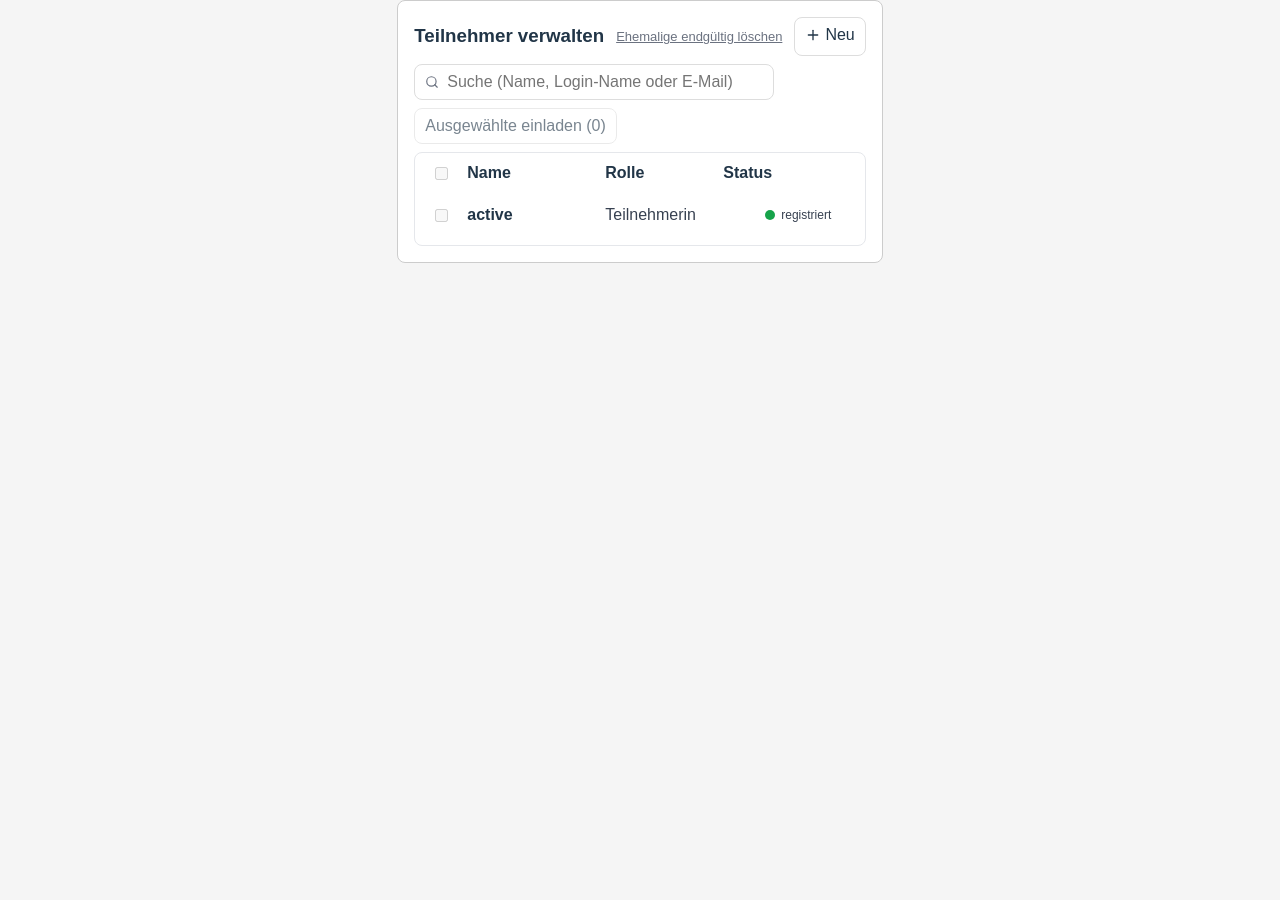
AdminPanel › löscht ehemalige Mitglieder endgültig über den Purge-Dialog (#271)
Expected: the text "active" is shown, [467,206,513,223]
Click the button "Ehemalige endgültig löschen".
click(699, 36)  # box [616,29,782,44]
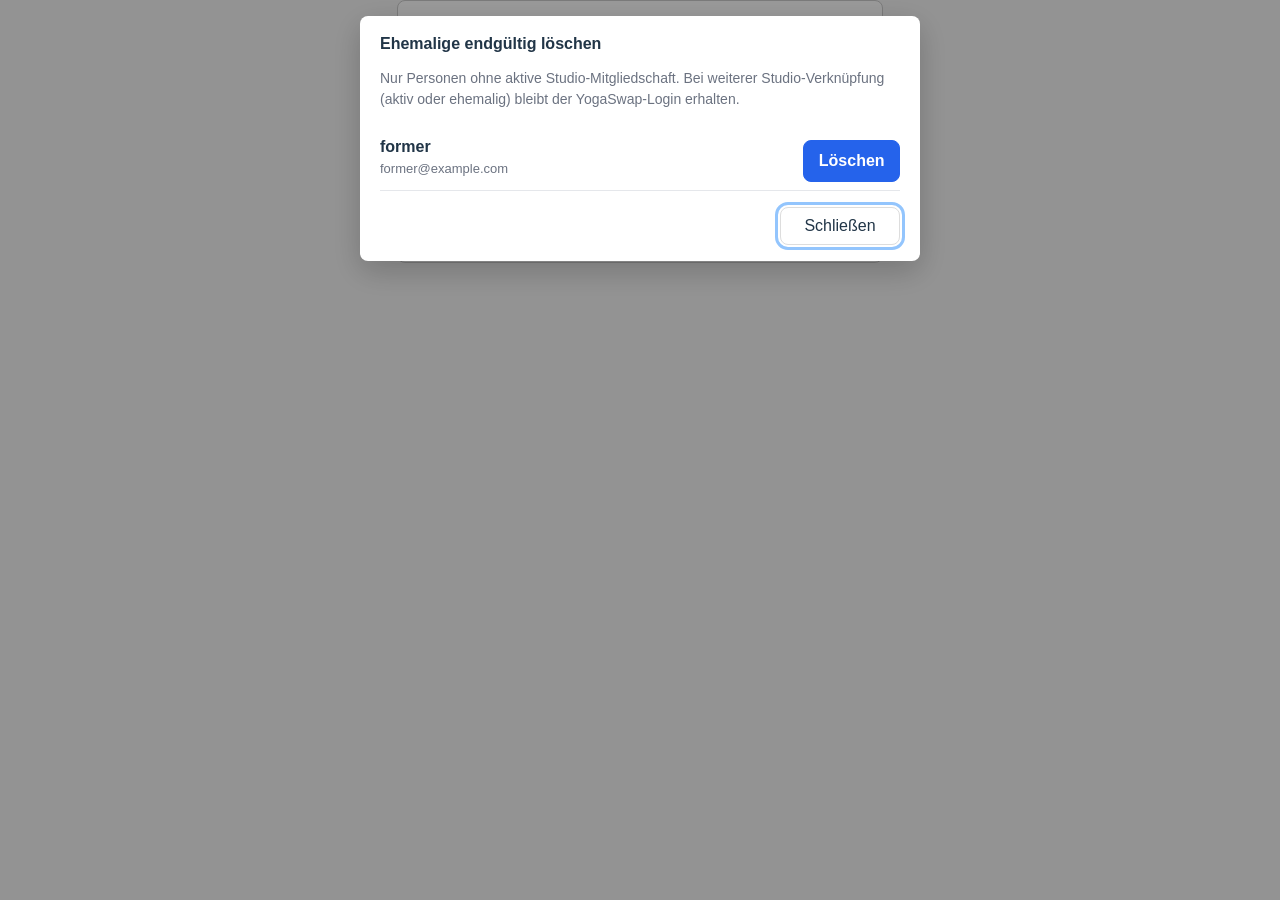
Now the text "former" is shown, box [380,138,431,155]
Click the button with aria-label "Endgültig löschen former".
click(852, 161)  # box [803,140,900,182]
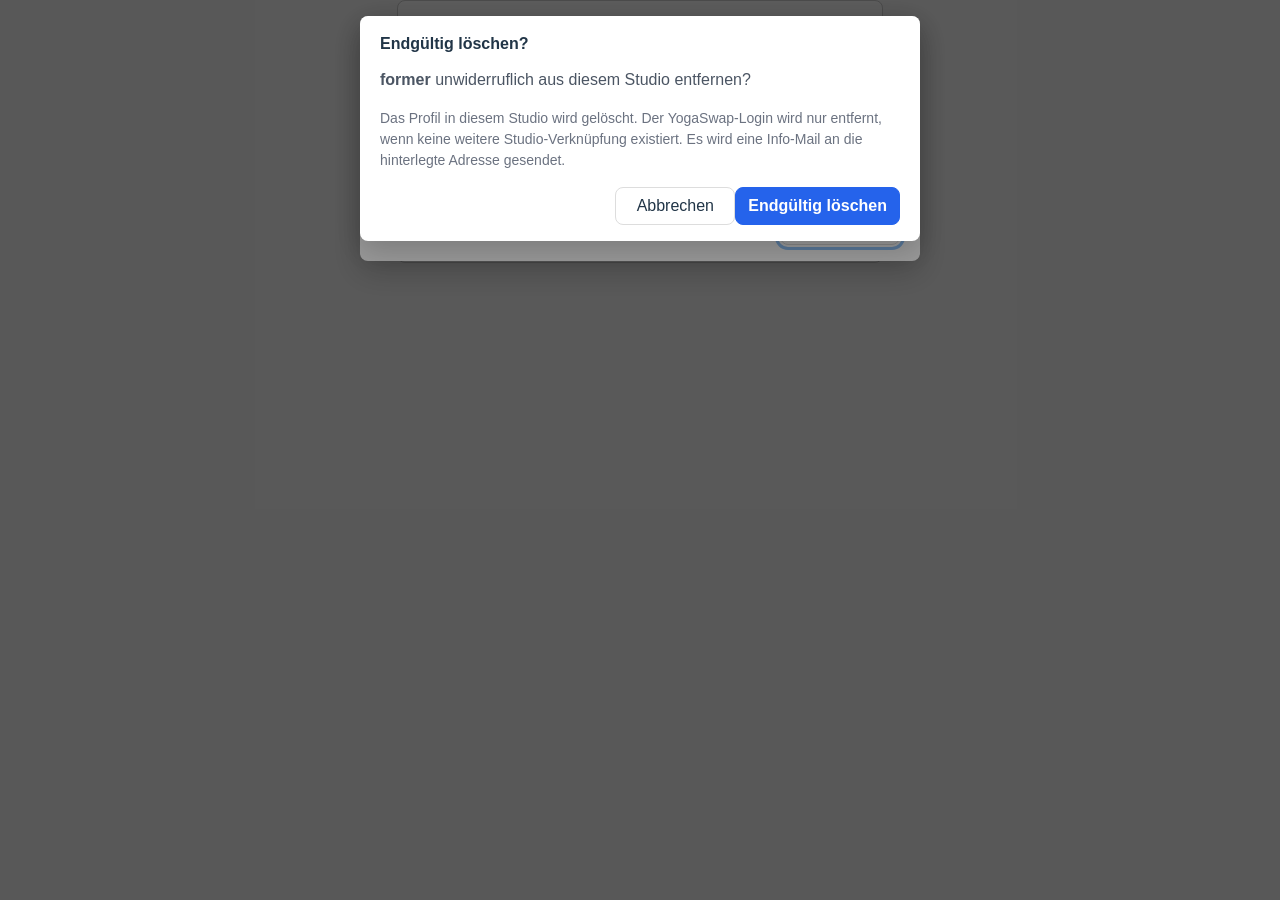
Click the button "Endgültig löschen".
click(818, 206)  # box [735,187,900,225]
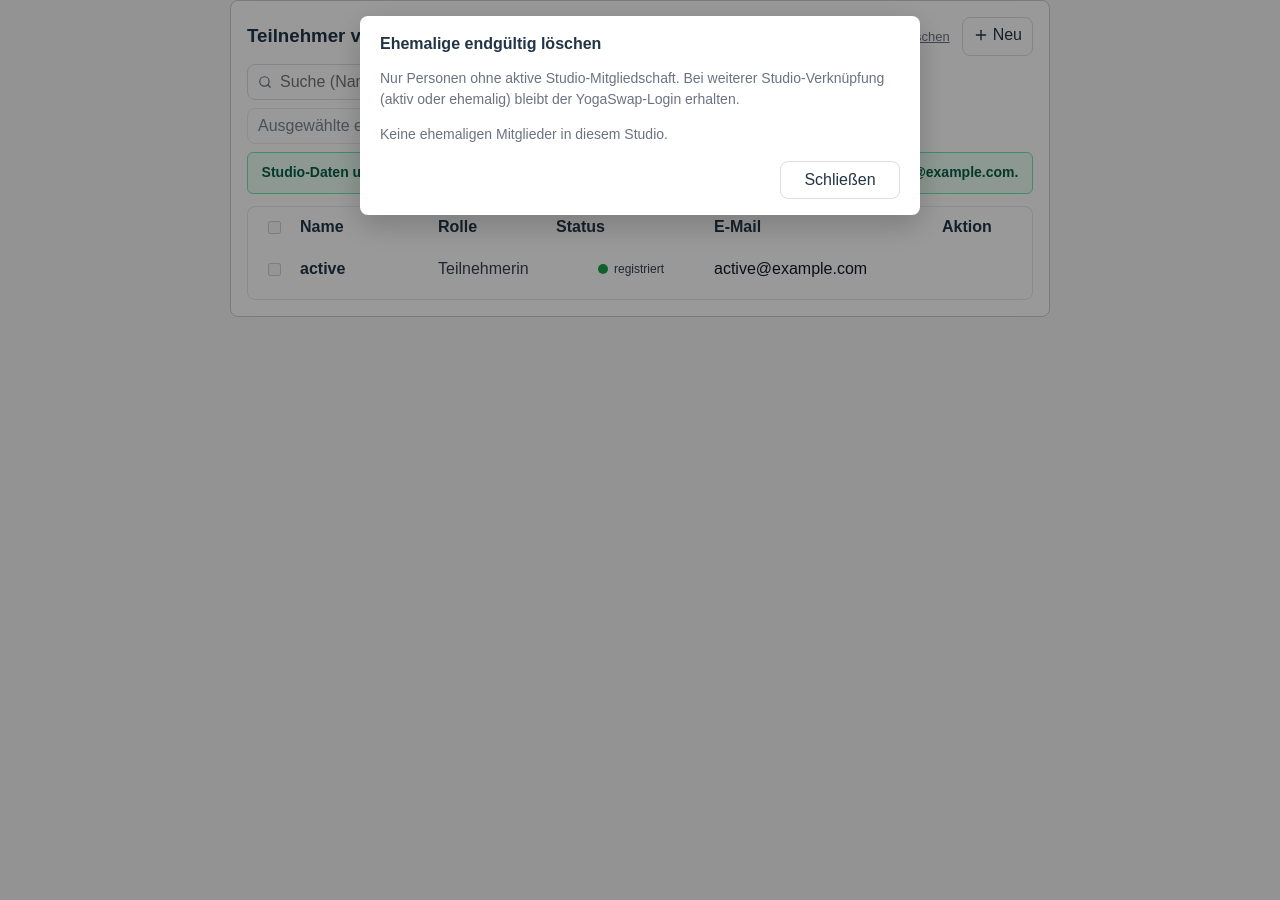
Now the text "Studio-Daten und YogaSwap-Login von \"former\" endgültig gelöscht" is shown, box [262,164,1018,180]
